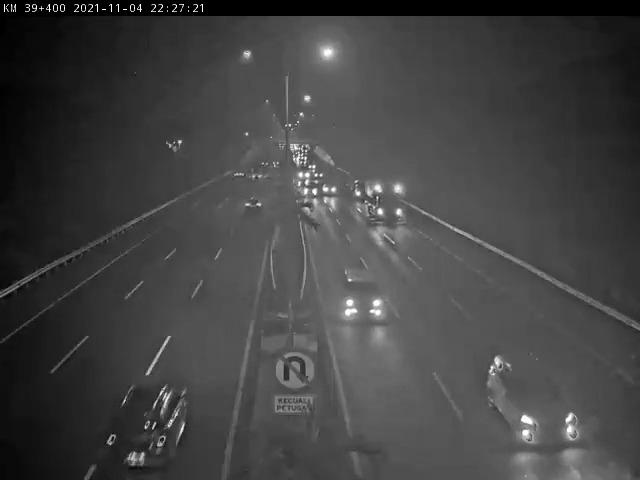car: (480, 351, 580, 446), (107, 381, 188, 470), (340, 266, 384, 321), (242, 196, 262, 216)
truck-l-: (365, 179, 405, 223)
